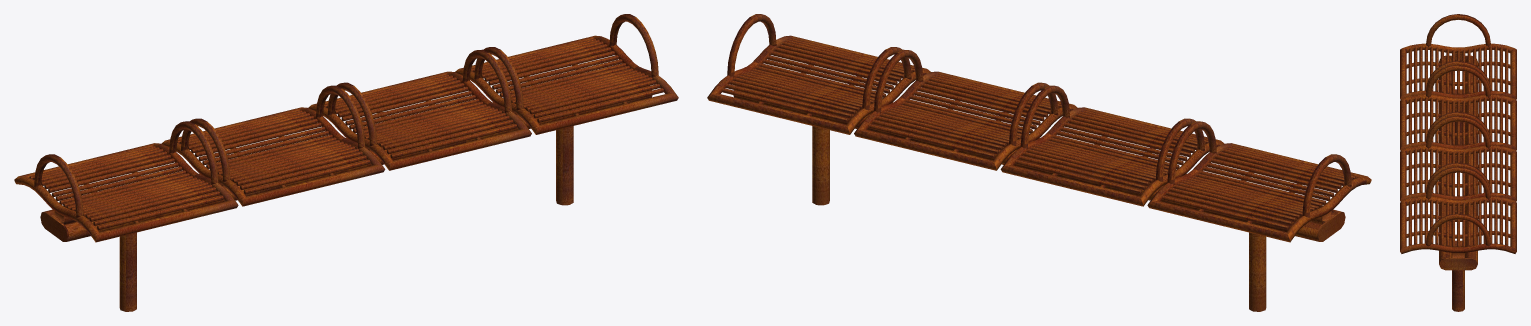
3 renders of one model, left to right at view 1: azimuth 30°, elevation 25°; view 2: azimuth 150°, elevation 25°; view 3: azimuth 270°, elevation 25°, orthographic. The views are drawn at different scales.
Visible parts, largest first — view 1: mesh1_mesh1-geometry, mesh9_mesh9-geometry, mesh24_mesh24-geometry, mesh18_mesh18-geometry, mesh29_mesh29-geometry, mesh21_mesh21-geometry; view 2: mesh1_mesh1-geometry, mesh9_mesh9-geometry, mesh24_mesh24-geometry, mesh18_mesh18-geometry, mesh28_mesh28-geometry, mesh21_mesh21-geometry; view 3: mesh1_mesh1-geometry, mesh9_mesh9-geometry, mesh24_mesh24-geometry, mesh8_mesh8-geometry, mesh28_mesh28-geometry, mesh29_mesh29-geometry, mesh18_mesh18-geometry, mesh21_mesh21-geometry, mesh4_mesh4-geometry.
Boxes of the visible parts, left/top/right/bottom form: mesh1_mesh1-geometry: left=29, top=38, right=663, bottom=230; mesh9_mesh9-geometry: left=14, top=35, right=678, bottom=242; mesh24_mesh24-geometry: left=34, top=14, right=658, bottom=217; mesh18_mesh18-geometry: left=119, top=126, right=573, bottom=311; mesh29_mesh29-geometry: left=64, top=86, right=650, bottom=241; mesh21_mesh21-geometry: left=40, top=85, right=652, bottom=241; mesh1_mesh1-geometry: left=722, top=38, right=1356, bottom=230; mesh9_mesh9-geometry: left=707, top=35, right=1371, bottom=242; mesh24_mesh24-geometry: left=727, top=14, right=1351, bottom=217; mesh18_mesh18-geometry: left=812, top=126, right=1266, bottom=311; mesh28_mesh28-geometry: left=735, top=90, right=1321, bottom=241; mesh21_mesh21-geometry: left=733, top=90, right=1345, bottom=241; mesh1_mesh1-geometry: left=1408, top=46, right=1508, bottom=247; mesh9_mesh9-geometry: left=1400, top=43, right=1516, bottom=253; mesh24_mesh24-geometry: left=1426, top=14, right=1490, bottom=246; mesh8_mesh8-geometry: left=1406, top=61, right=1510, bottom=238; mesh28_mesh28-geometry: left=1465, top=56, right=1477, bottom=263; mesh29_mesh29-geometry: left=1439, top=56, right=1451, bottom=263; mesh18_mesh18-geometry: left=1452, top=89, right=1464, bottom=311; mesh21_mesh21-geometry: left=1439, top=55, right=1477, bottom=270; mesh4_mesh4-geometry: left=1452, top=53, right=1464, bottom=257.
Bounding box in the file's own units: 0.9391 × 0.2569 × 0.2282.
